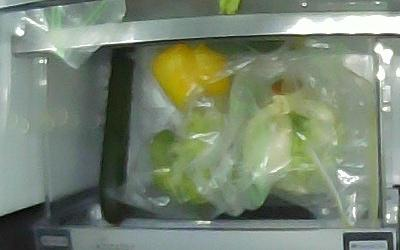broccoli_vinyl: (142, 110, 243, 203)
cucumber_vinyl: (97, 45, 135, 225)
lettuce_vinyl: (243, 79, 340, 195)
paprika_vinyl: (151, 43, 232, 111)
